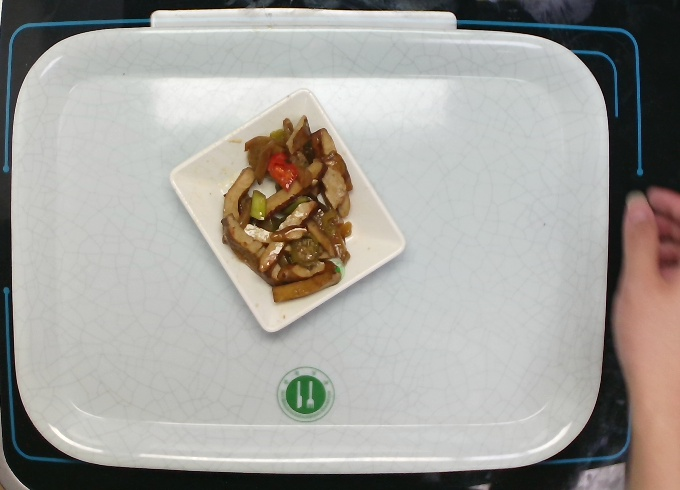WCQzf-Bai_Se_Si_Fang_Die: (163, 84, 412, 338)
